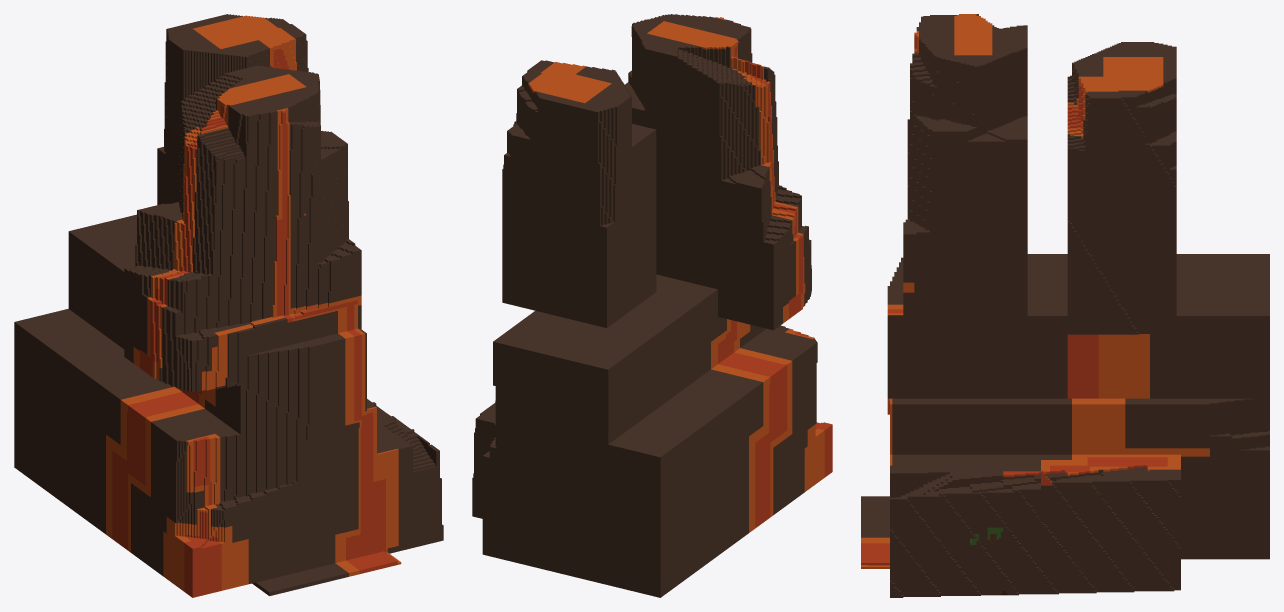
File: Lava cave 0-1.obj
3 views of the same model, side by side, from view 1: azimuth 30°, elevation 25°; view 2: azimuth 150°, elevation 25°; view 3: azimuth 270°, elevation 25° (orthographic). The views are drawn at different scales.
Size of the model in its own units: 14.1 by 24.2 by 18.4.
1 material, 1 textured.
